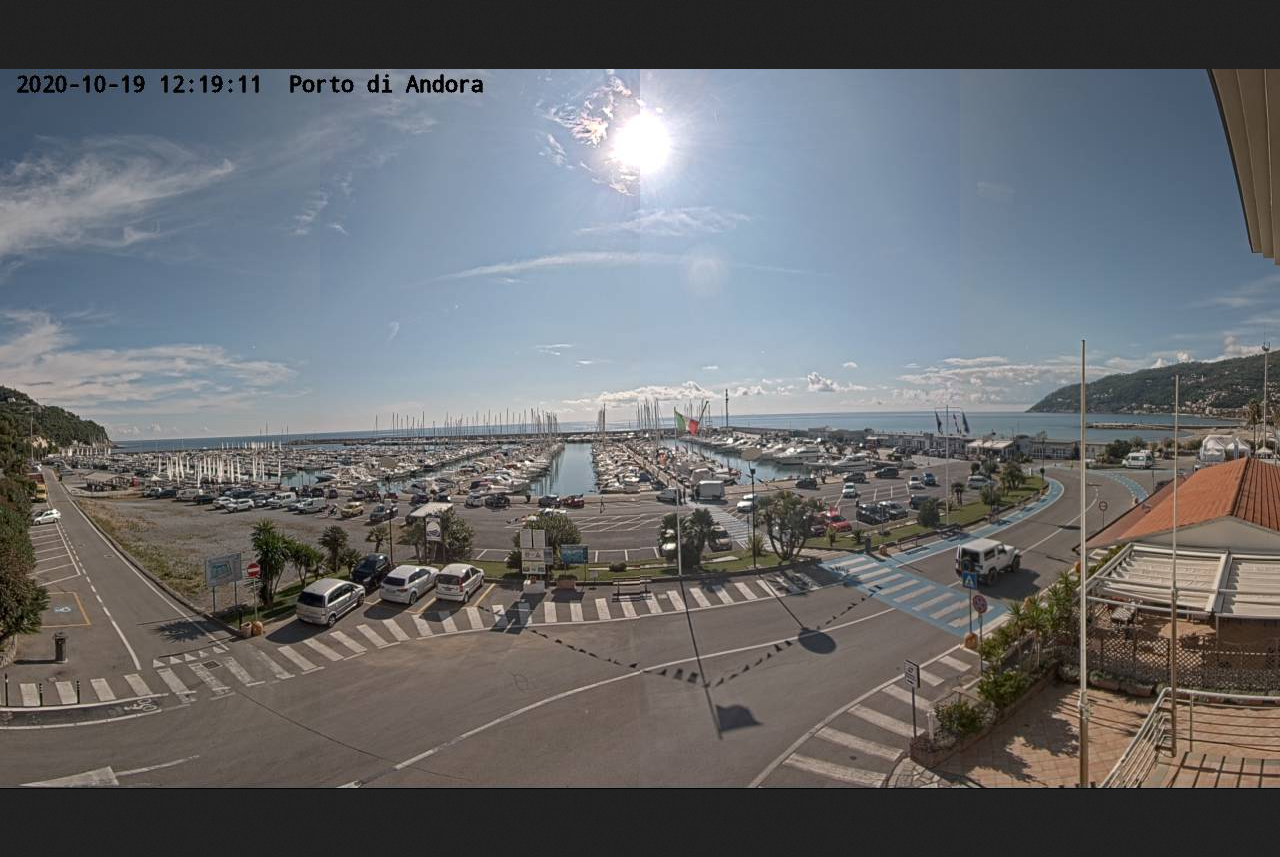no: (933, 412, 950, 437), (961, 410, 972, 433)
yes: (672, 408, 700, 435)
